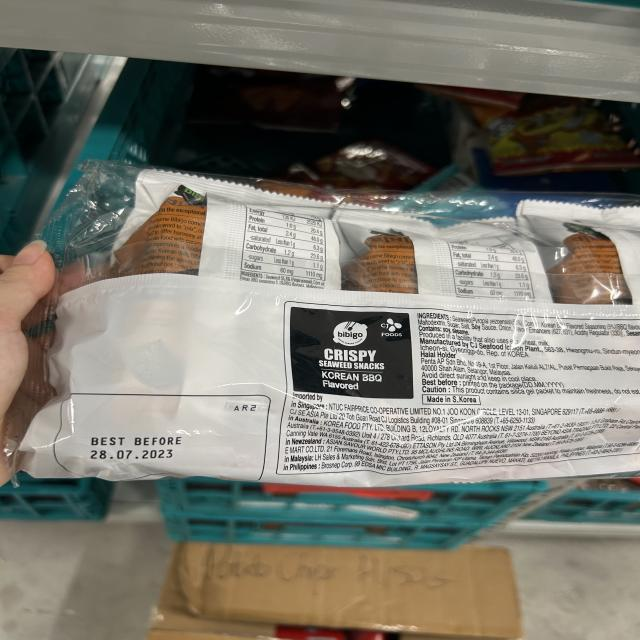object_name: (89, 194, 640, 478)
